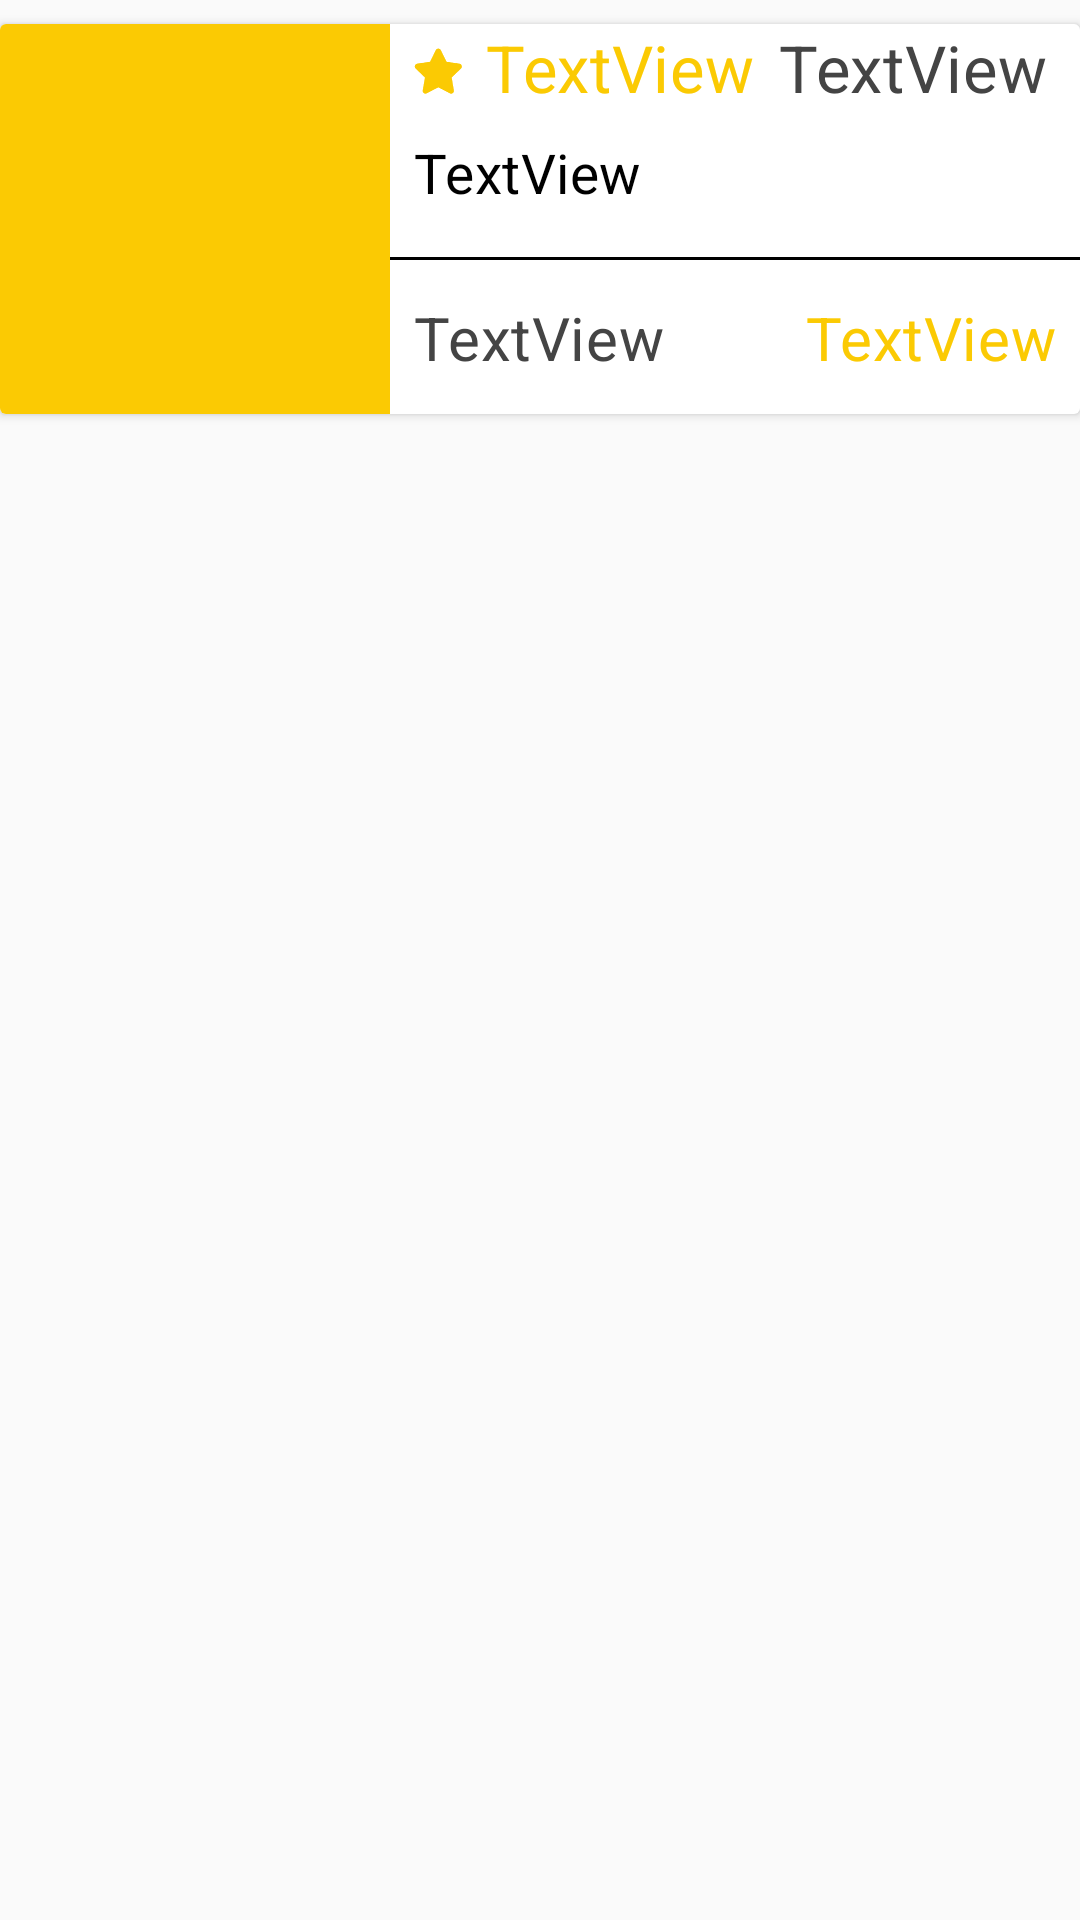

Icons on this 1080×1920 Android screen, each with the point to tap as (x=x, y=y):
star: (x=438, y=71)
